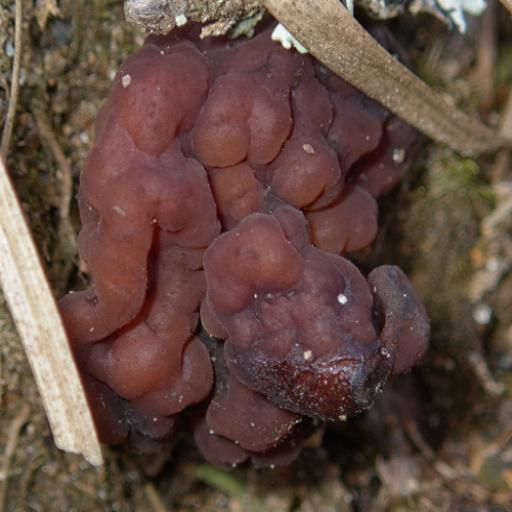False Morel: (78, 41, 425, 463)
